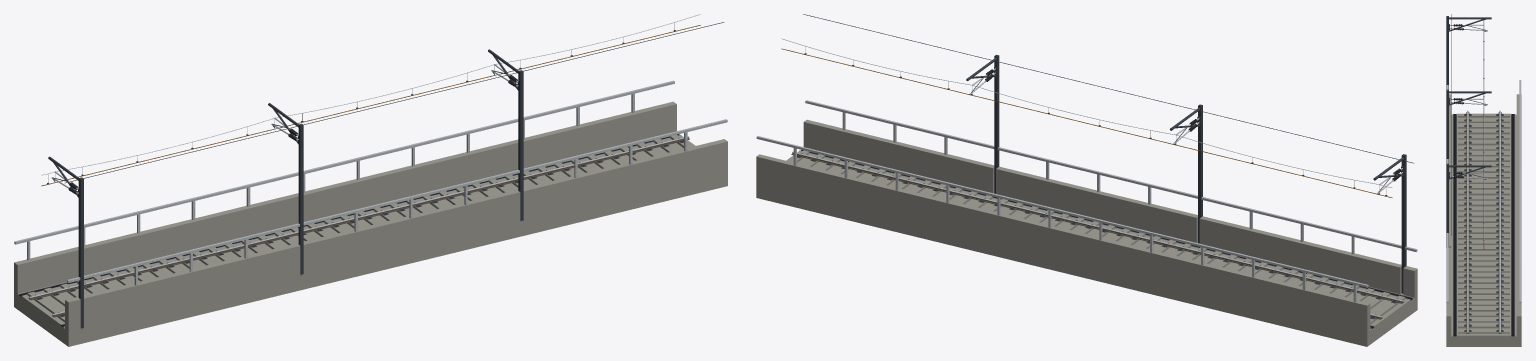
File: BridgeKit.glb
3 views of the same model, side by side, from view 1: azimuth 30°, elevation 25°; view 2: azimuth 150°, elevation 25°; view 3: azimuth 270°, elevation 25° (orthographic). The views are drawn at different scales.
Visible parts, largest first — view 1: bridge-edge-concrete (×4), bridge-deck, bridge-railing-top (×2), concrete sleepers, bridge-kit-waysideconcrete-001, bridge-gantry-post (×3), track-running-rail, bridge-kit-trackrailweb-004, bridge-kit-trackrailweb-005, catenary-contact-wire, catenary-return-wire, bridge-kit-black-009; view 2: bridge-edge-concrete (×4), bridge-deck, bridge-railing-top (×2), concrete sleepers, bridge-kit-waysideconcrete-001, bridge-gantry-post (×3), track-running-rail, bridge-kit-trackrailweb-002, bridge-kit-trackrailweb-003, catenary-contact-wire, catenary-return-wire, bridge-kit-black-006; view 3: concrete sleepers, bridge-kit-waysideconcrete-001, bridge-deck, bridge-edge-concrete (×4), rail seats, bridge-railing-top (×2), bridge-kit-black-009, track-running-rail (×2), bridge-kit-black-006, bridge-gantry-post (×3), bridge-kit-trackrailweb-004, bridge-kit-trackrailweb-002 (+9 smaller).
Part boxes in pixels (box(x1,y1,x2,y2)): bridge-edge-concrete (×4): box(14, 101, 727, 327); bridge-deck: box(14, 170, 727, 346); bridge-railing-top (×2): box(14, 80, 727, 282); concrete sleepers: box(27, 134, 692, 322); bridge-kit-waysideconcrete-001: box(21, 135, 695, 325); bridge-gantry-post (×3): box(78, 70, 523, 329); track-running-rail: box(29, 136, 689, 297); bridge-kit-trackrailweb-004: box(28, 138, 689, 300); bridge-kit-trackrailweb-005: box(29, 137, 688, 298); catenary-contact-wire: box(41, 25, 700, 186); catenary-return-wire: box(65, 22, 724, 183); bridge-kit-black-009: box(19, 134, 679, 296); bridge-edge-concrete (×4): box(756, 119, 1401, 332); bridge-deck: box(756, 183, 1417, 346); bridge-railing-top (×2): box(756, 100, 1417, 287); concrete sleepers: box(789, 150, 1405, 324); bridge-kit-waysideconcrete-001: box(786, 151, 1410, 326); bridge-gantry-post (×3): box(994, 54, 1406, 293); track-running-rail: box(792, 151, 1403, 301); bridge-kit-trackrailweb-002: box(791, 153, 1403, 303); bridge-kit-trackrailweb-003: box(792, 153, 1403, 302); catenary-contact-wire: box(781, 48, 1392, 197); catenary-return-wire: box(803, 14, 1414, 163); bridge-kit-black-006: box(800, 150, 1412, 300); concrete sleepers: box(1458, 114, 1509, 333); bridge-kit-waysideconcrete-001: box(1457, 113, 1510, 336); bridge-deck: box(1446, 114, 1521, 346); bridge-edge-concrete (×4): box(1446, 94, 1521, 336); rail seats: box(1464, 114, 1503, 331); bridge-railing-top (×2): box(1446, 80, 1521, 303); bridge-kit-black-009: box(1511, 114, 1514, 336); track-running-rail (×2): box(1467, 110, 1500, 332); bridge-kit-black-006: box(1453, 114, 1456, 336); bridge-gantry-post (×3): box(1446, 16, 1448, 247); bridge-kit-trackrailweb-004: box(1498, 112, 1501, 333); bridge-kit-trackrailweb-002: box(1466, 112, 1469, 333).
Bounding box in the file's own units: 24 × 5.72 × 3.44.
Materials: 7 (1 with a texture image).
